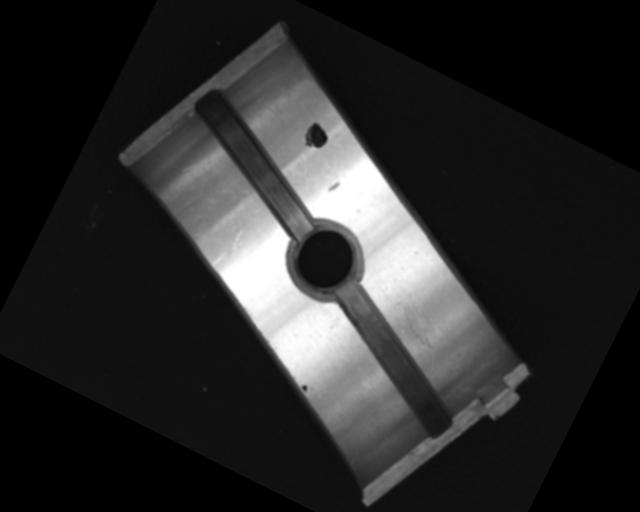blot: (299, 119, 334, 154), (298, 381, 311, 395)
bruise: (208, 222, 248, 274), (326, 176, 341, 194)
gap: (299, 278, 487, 440), (165, 85, 346, 240)
hole: (276, 210, 375, 310)
scratch: (373, 284, 468, 364)
